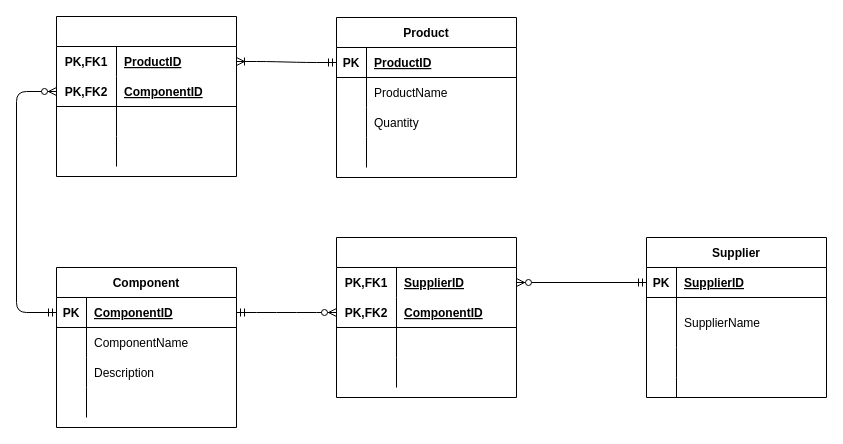
Image size: 843x444. Some labels were removed from this diagram. Each missing label, with the box of its shape:
ProdComp: (56, 16, 236, 176)
SuppComp: (336, 236, 516, 398)
